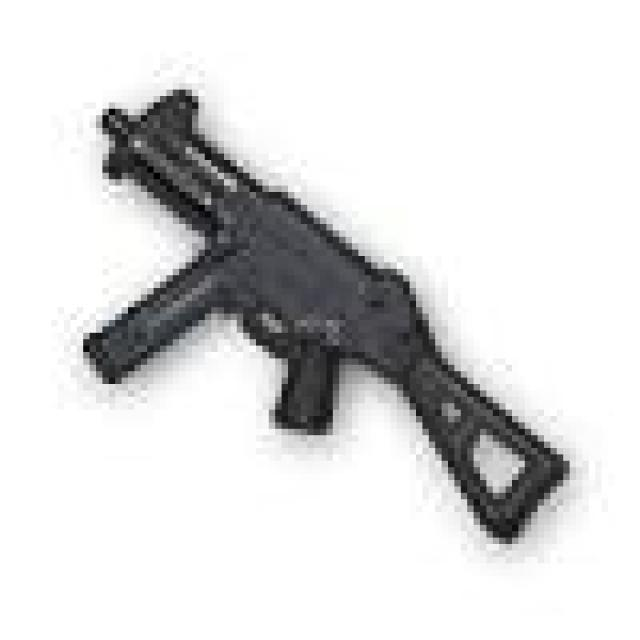Gun: (41, 63, 581, 565)
